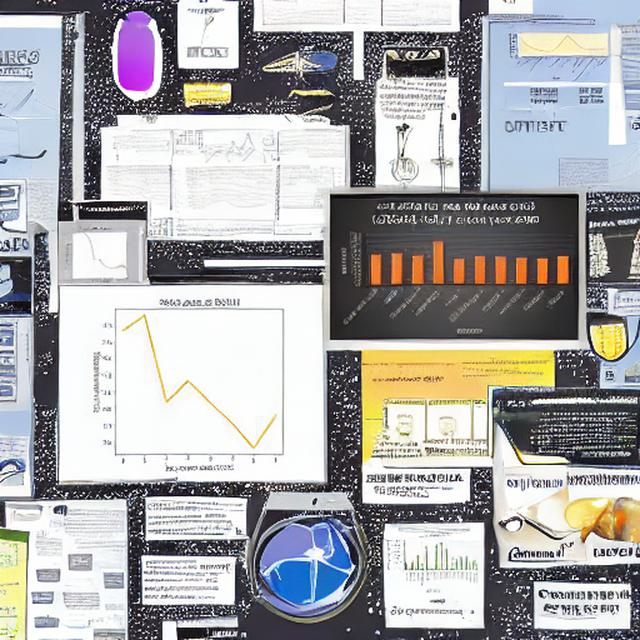Graph: (70, 286, 322, 475), (334, 197, 577, 337), (385, 527, 480, 594), (507, 21, 610, 82), (60, 226, 137, 284), (192, 126, 257, 166), (257, 0, 307, 29)
